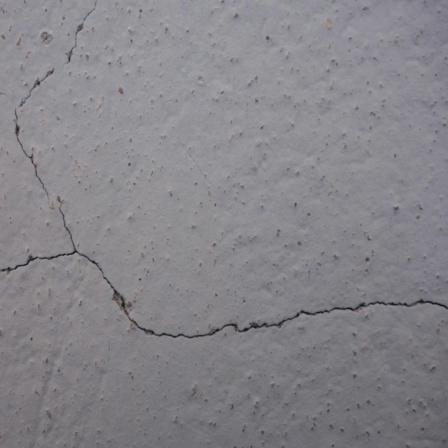crack: (0, 181, 448, 415), (0, 0, 102, 211)
